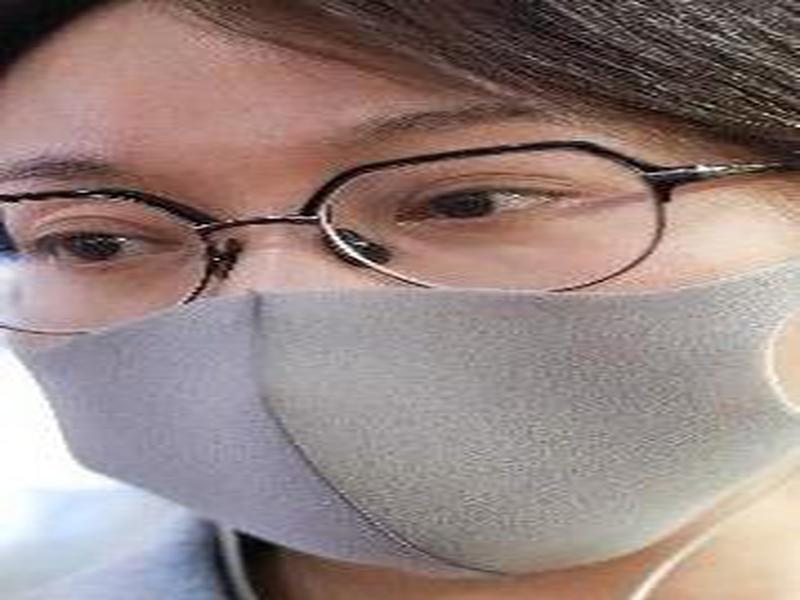with_mask: (1, 3, 798, 582)
